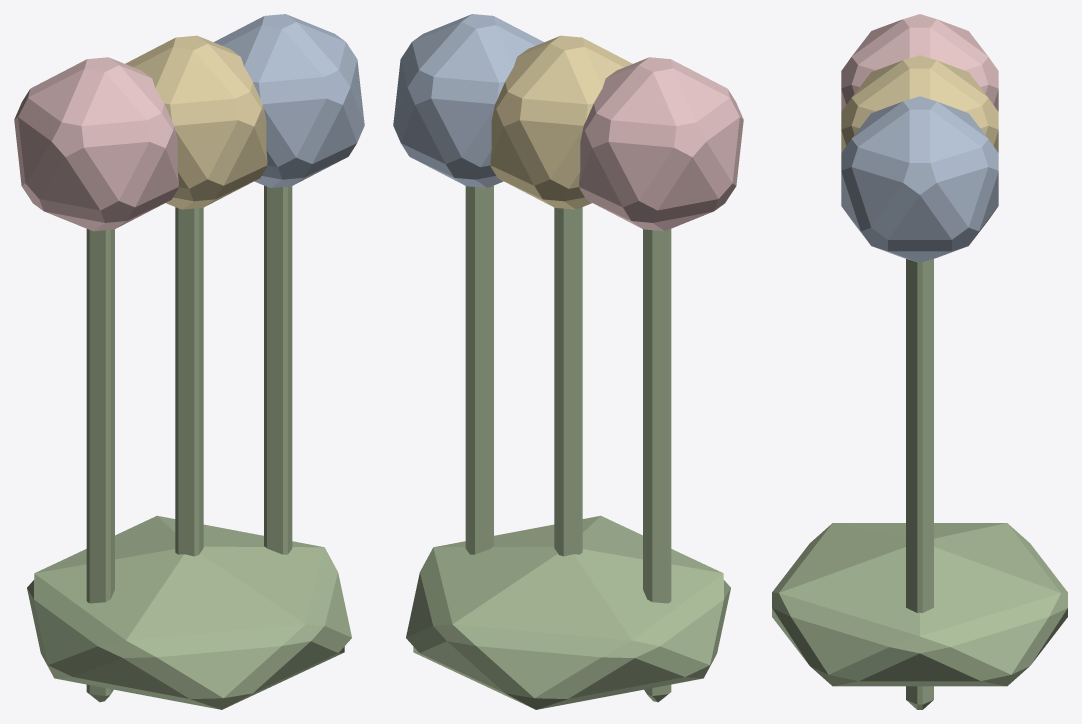
File: SM_Flower_01.fbx
The picture shows the model from 3 angles, left to right: view 1: azimuth 30°, elevation 25°; view 2: azimuth 150°, elevation 25°; view 3: azimuth 270°, elevation 25°; orthographic projection. The views are drawn at different scales.
Visible parts, largest first — view 1: Flower_01; view 2: Flower_01; view 3: Flower_01.
Boxes of the visible parts, left/top/right/bottom form: Flower_01: left=14, top=14, right=364, bottom=709; Flower_01: left=393, top=14, right=743, bottom=709; Flower_01: left=772, top=14, right=1067, bottom=709.
Size of the model in its own units: 25.92 by 48.03 by 21.28.
